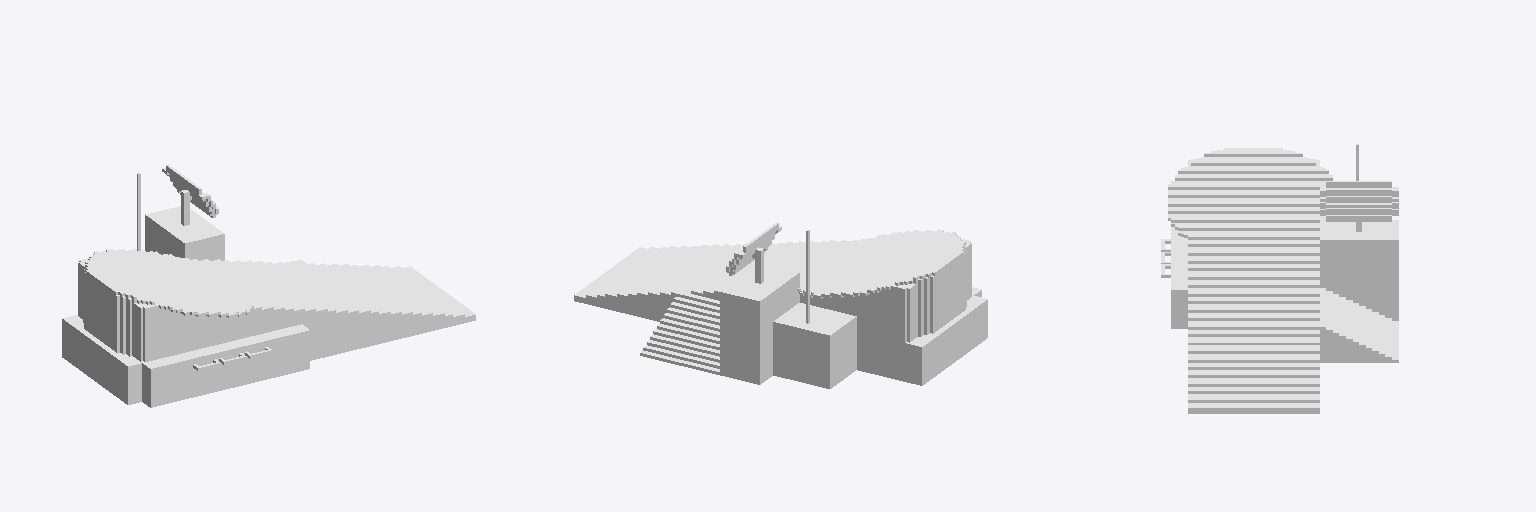
File: TransportAirport.obj
The picture shows the model from 3 angles: view 1: azimuth 30°, elevation 25°; view 2: azimuth 150°, elevation 25°; view 3: azimuth 270°, elevation 25°; orthographic projection.
Visible parts, largest first — view 1: object 1; view 2: object 1; view 3: object 1.
Boxes of the visible parts, box(x1,y1,x2,y2) form: object 1: box(62, 164, 475, 407); object 1: box(574, 222, 987, 388); object 1: box(1161, 144, 1398, 413).
Bounding box in the file's own units: 12.2 × 4.9 × 7.2.